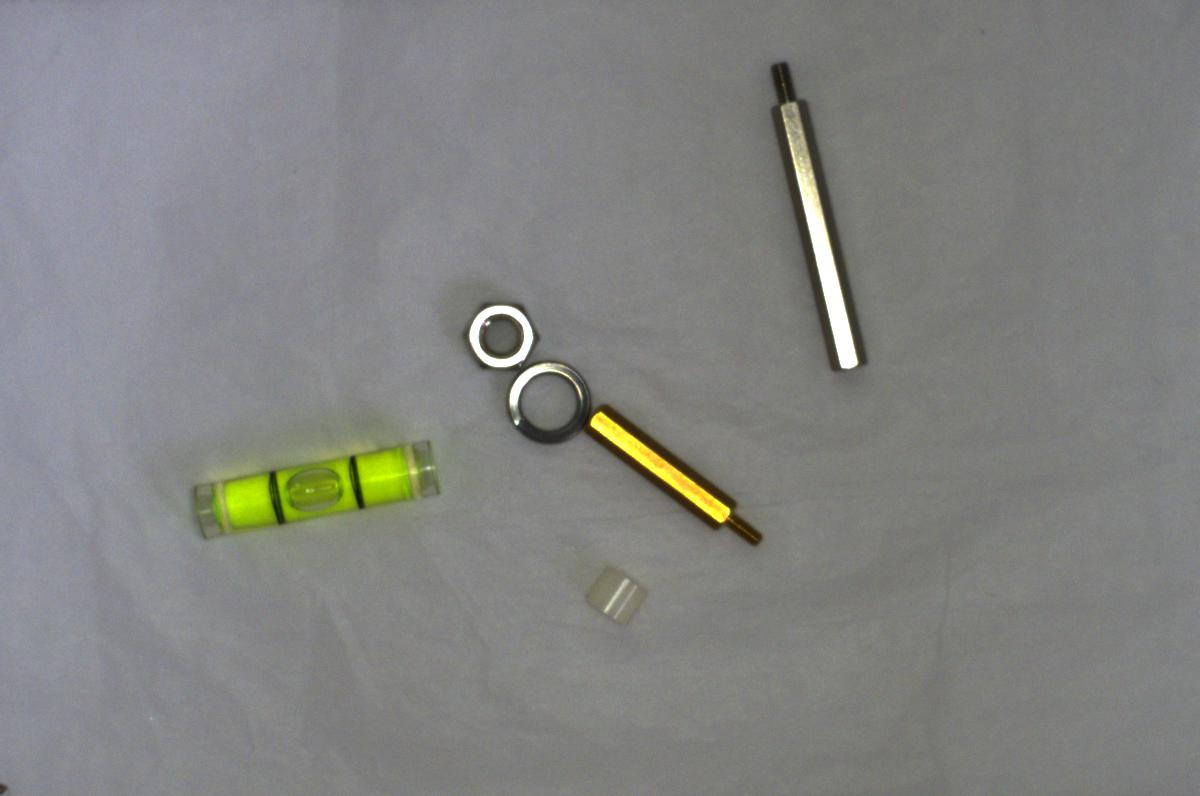Hexagon nut: (458, 292, 542, 376)
Hexagon pillar: (577, 399, 768, 546)
Hexagonal steel column: (762, 53, 870, 378)
Horizontal bubble: (184, 434, 445, 534)
Plastic cushion pillar: (571, 558, 657, 630)
Spring washer: (495, 362, 597, 448)
